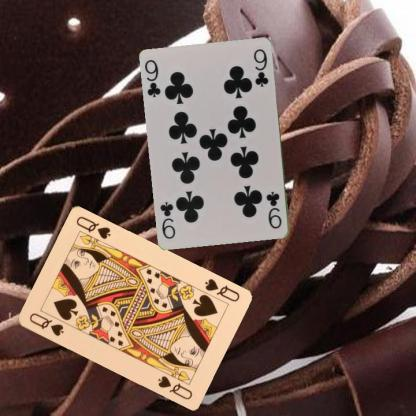9c: (142, 58, 162, 100), (264, 189, 283, 230)
Qs: (26, 310, 65, 338), (202, 276, 241, 304)
